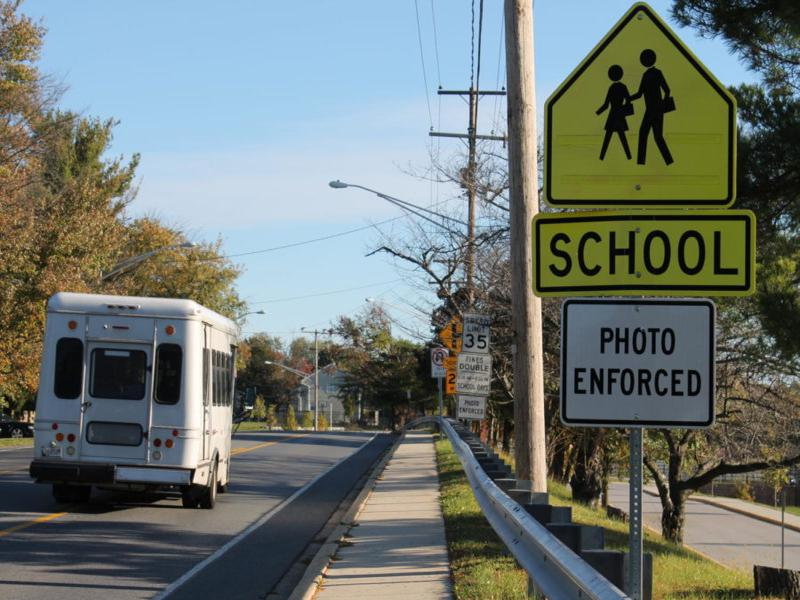slow: (544, 29, 743, 207)
